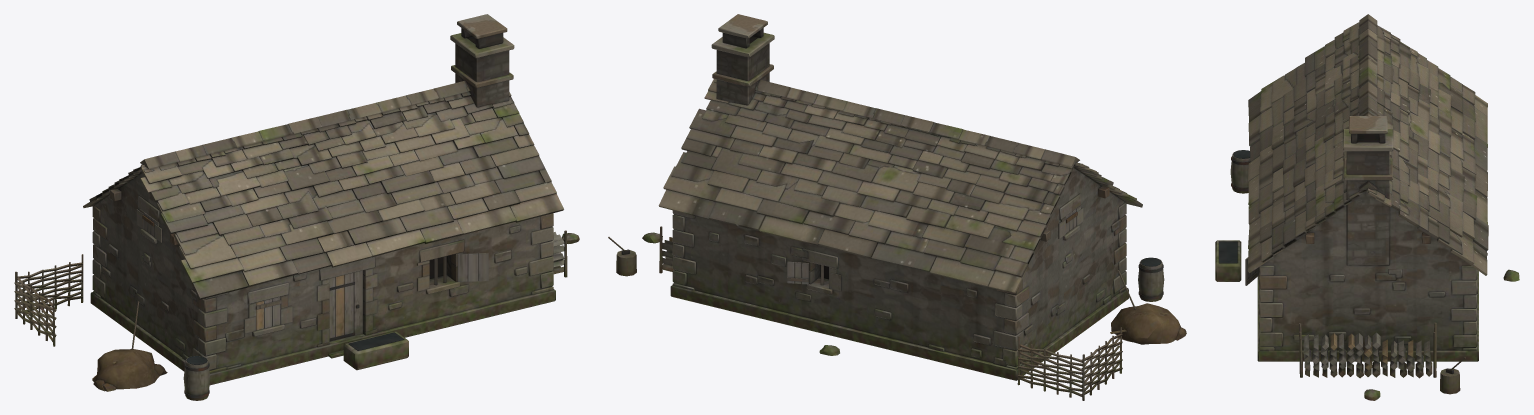
Rendered from house_c.glb.
The picture shows the model from 3 angles, left to right: view 1: azimuth 30°, elevation 25°; view 2: azimuth 150°, elevation 25°; view 3: azimuth 270°, elevation 25°; orthographic projection. The views are drawn at different scales.
Visible parts, largest first — view 1: house_c_LOD0; view 2: house_c_LOD0; view 3: house_c_LOD0.
Part boxes in pixels (box(x1,y1,x2,y2)): house_c_LOD0: box(14, 14, 579, 400); house_c_LOD0: box(608, 14, 1186, 400); house_c_LOD0: box(1215, 14, 1519, 400).
Size of what is drawn, in the model's own units: 13.38 by 5.92 by 7.06.
1 material, 1 textured.
